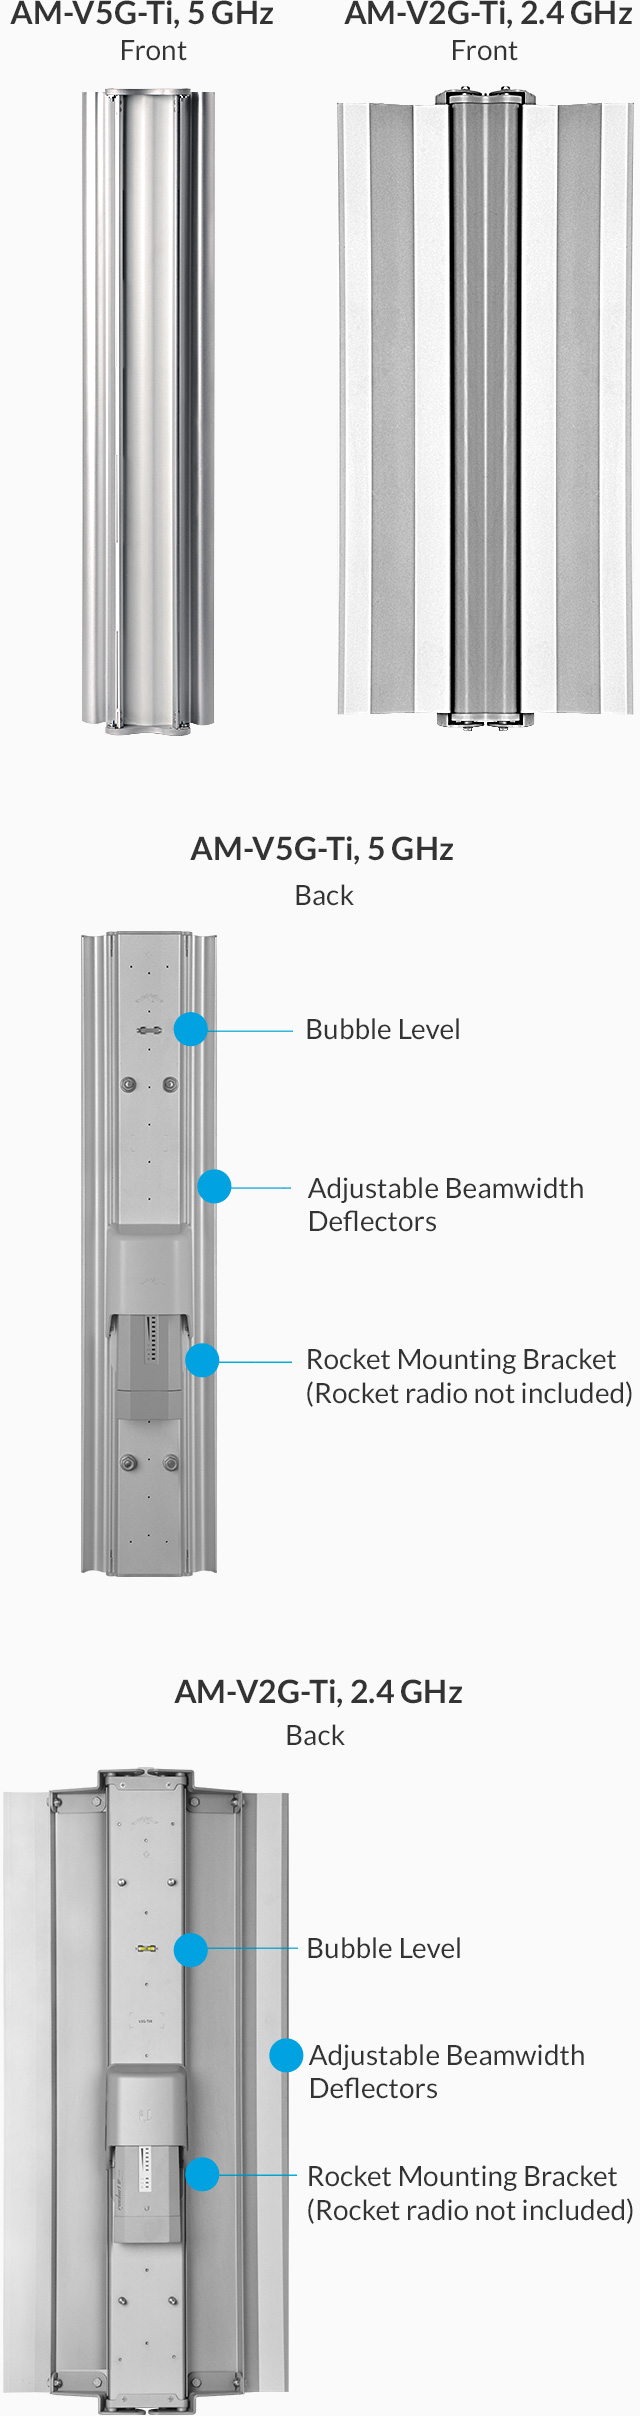sa: (15, 1707, 318, 2396), (45, 42, 247, 800), (45, 871, 236, 1632)
